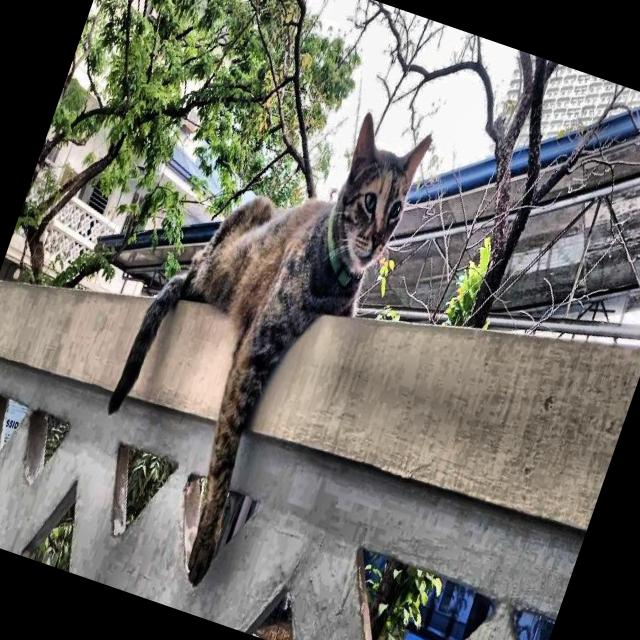Healthy skin: (246, 237, 318, 324)
